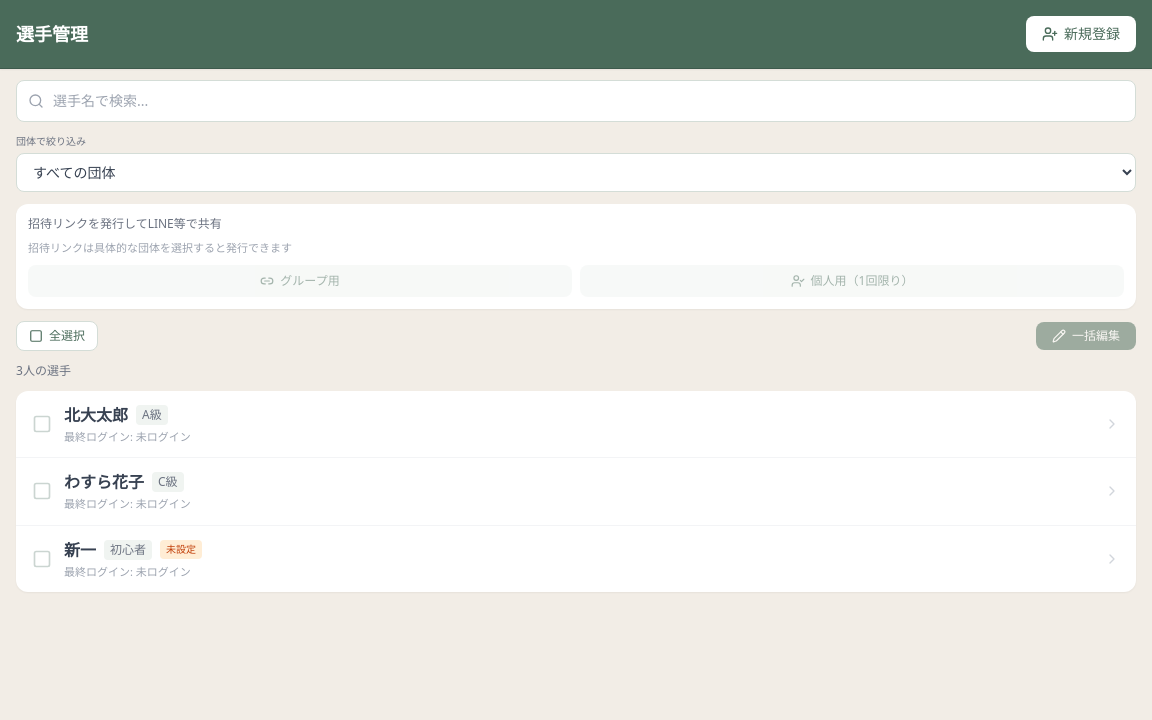
Test: PlayerList - 選択UI・団体フィルタ・一括編集導線 › 無所属フィルタで organizationIds が空の選手だけ表示する
Expected: the text "新一" is shown, [64,538,96,562]
Expected: the text "北大太郎" is shown, [64,402,128,426]
Select "無所属" in the dropdown named "団体で絞り込み" at [576, 172], box [16,153,1136,192]
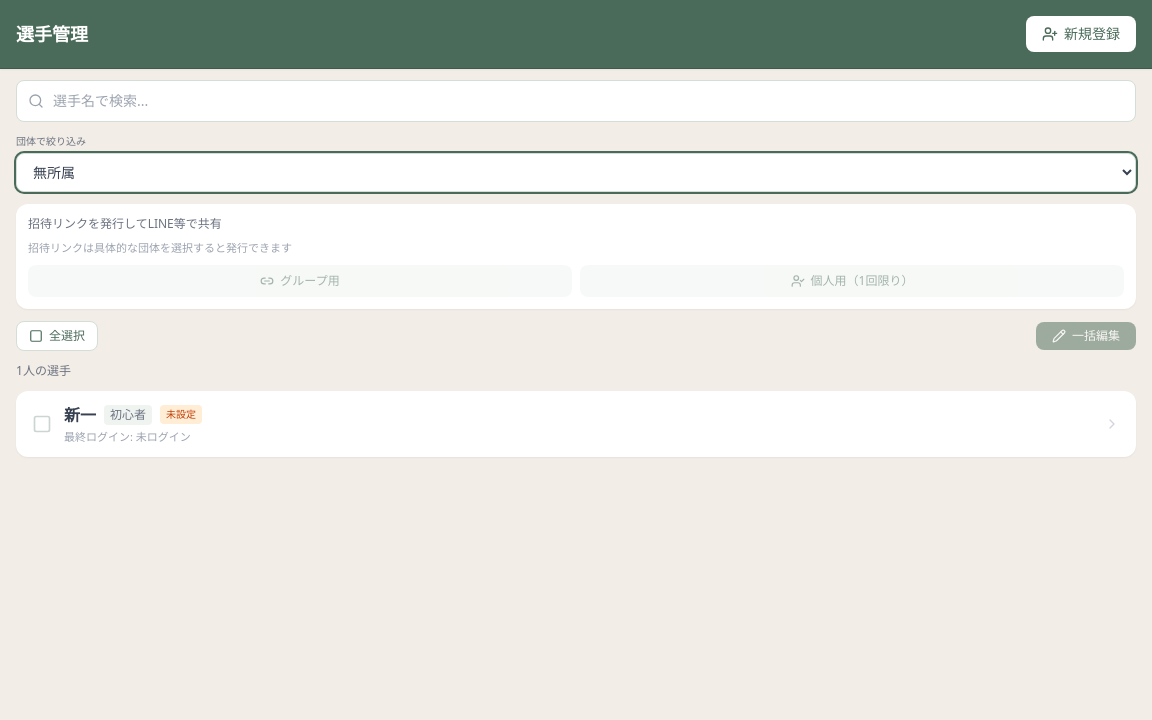
Expected: the text "新一" is shown, [64,402,96,426]
Expected: the text "北大太郎" is gone
Expected: the text "わすら花子" is gone
